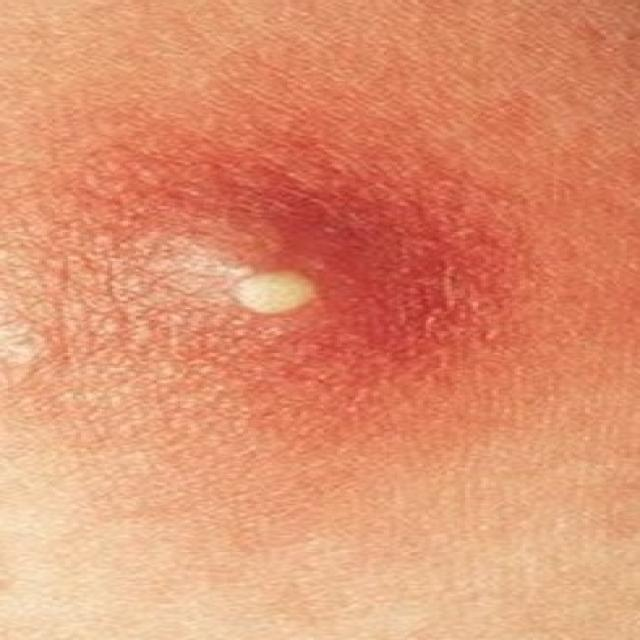pustule: (164, 226, 408, 357)
